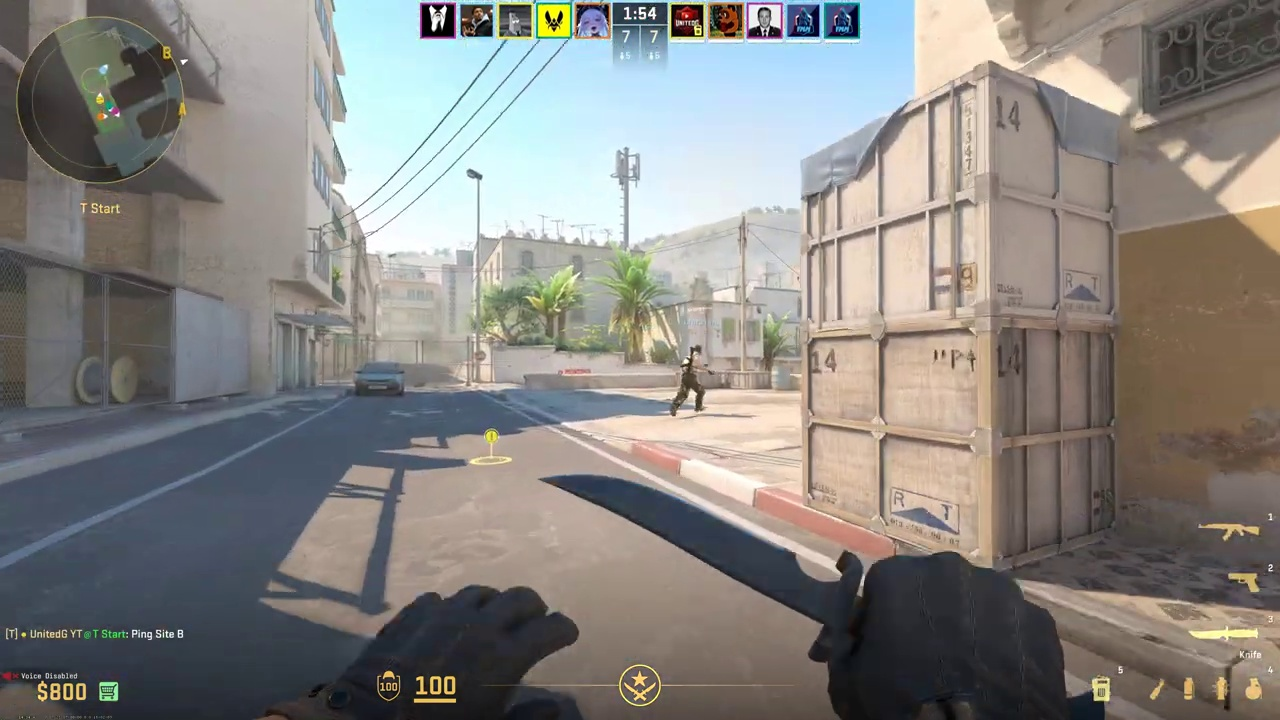Terrorist: (674, 345, 706, 416)
